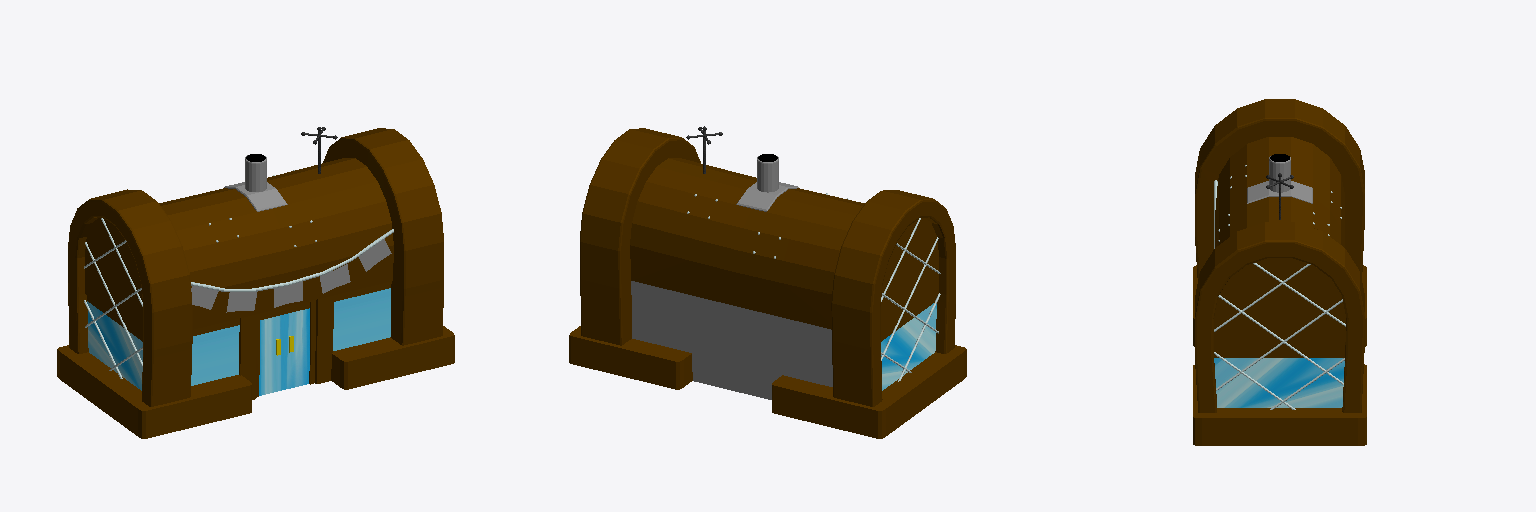
3 renders of one model, left to right at view 1: azimuth 30°, elevation 25°; view 2: azimuth 150°, elevation 25°; view 3: azimuth 270°, elevation 25°, orthographic.
Parts seen in each view (by area): view 1: The_Krusty_Krab; view 2: The_Krusty_Krab; view 3: The_Krusty_Krab.
Part boxes in pixels (x1,y1,x2,y2): The_Krusty_Krab: (57, 127, 454, 438); The_Krusty_Krab: (569, 126, 966, 438); The_Krusty_Krab: (1193, 99, 1366, 445).
Size of the model in its own units: 8.01 by 5.54 by 3.83.
12 materials, 2 textured.